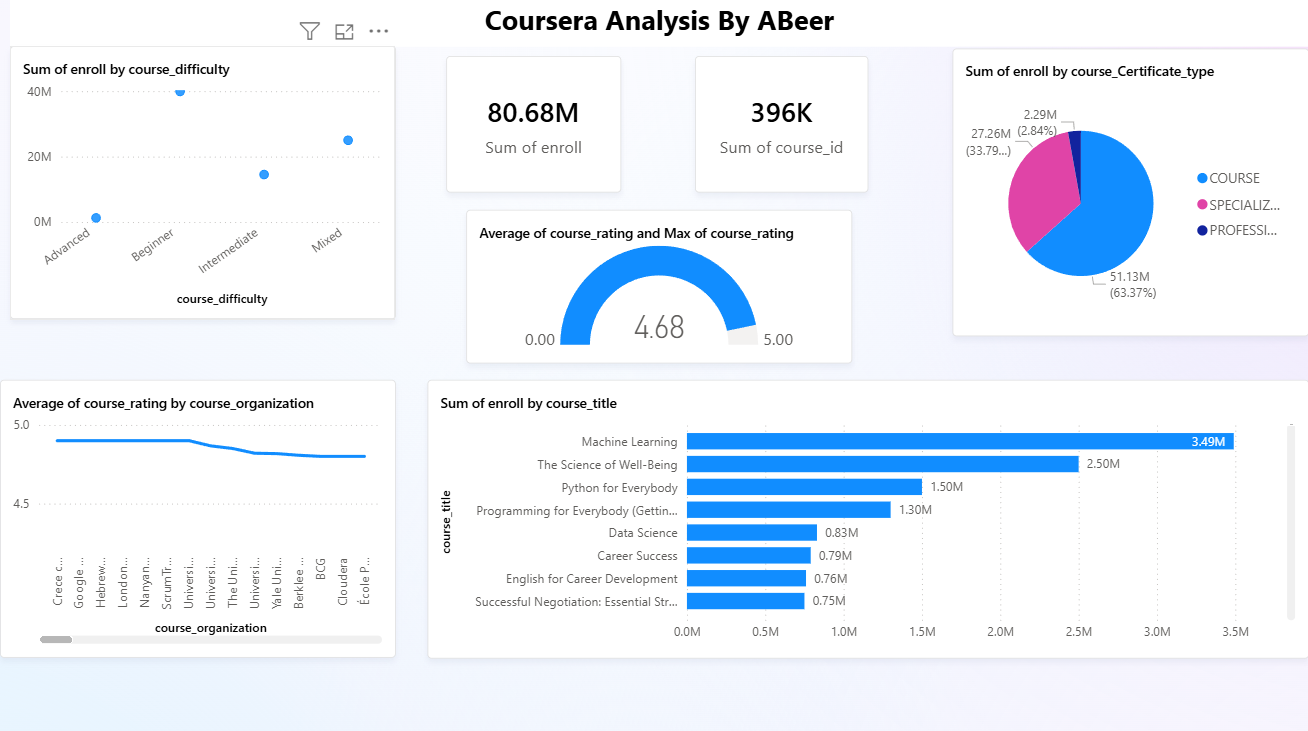

What the dashboard file says about the page in this screenshot:
{"tool":"powerbi","page":{"name":"Page 1","canvas":[1280,720],"ordinal":0},"visuals":[{"type":"textbox","box":[9.6,0,1270.7,49.4],"z":0},{"type":"scatterChart","fields":{"X":["coursea_data.course_difficulty"],"Y":["Sum(coursea_data.ConvertedValue)"]},"box":[9.6,49.4,377.4,267.6],"z":1},{"type":"lineChart","fields":{"Y":["Avg(coursea_data.course_rating)"],"Category":["coursea_data.course_organization"]},"box":[0,376,387,271.7],"z":2},{"type":"pieChart","fields":{"Category":["coursea_data.course_Certificate_type"],"Y":["Sum(coursea_data.ConvertedValue)"]},"box":[931.7,50.8,348.5,281.3],"z":3},{"type":"barChart","fields":{"Category":["coursea_data.course_title"],"Y":["Sum(coursea_data.ConvertedValue)"]},"box":[418.2,375.4,862.1,272.7],"z":4},{"type":"card","fields":{"Values":["Sum(coursea_data.enroll)"]},"box":[436.6,58.7,171.2,133.3],"z":5},{"type":"card","fields":{"Values":["Sum(coursea_data.course_id)"]},"box":[679.9,58.7,170,133.3],"z":6},{"type":"gauge","fields":{"Y":["Avg(coursea_data.course_rating)"],"MaxValue":["Max(coursea_data.course_rating)"]},"box":[456.1,209.1,377.9,150.4],"z":7}]}

Visuals, with their boxes on the page's 1280x720 design canvas (x1, y1, x2, y2). These are canvas units, not pixel positions in the 1308x731 screenshot, which may show the page scaled, cropped or inside an application window:
textbox: 10, 0, 1280, 49
scatterChart - coursea_data.course_difficulty x Sum(coursea_data.ConvertedValue): 10, 49, 387, 317
lineChart - Avg(coursea_data.course_rating) x coursea_data.course_organization: 0, 376, 387, 648
pieChart - coursea_data.course_Certificate_type x Sum(coursea_data.ConvertedValue): 932, 51, 1280, 332
barChart - coursea_data.course_title x Sum(coursea_data.ConvertedValue): 418, 375, 1280, 648
card - Sum(coursea_data.enroll): 437, 59, 608, 192
card - Sum(coursea_data.course_id): 680, 59, 850, 192
gauge - Avg(coursea_data.course_rating) x Max(coursea_data.course_rating): 456, 209, 834, 360
